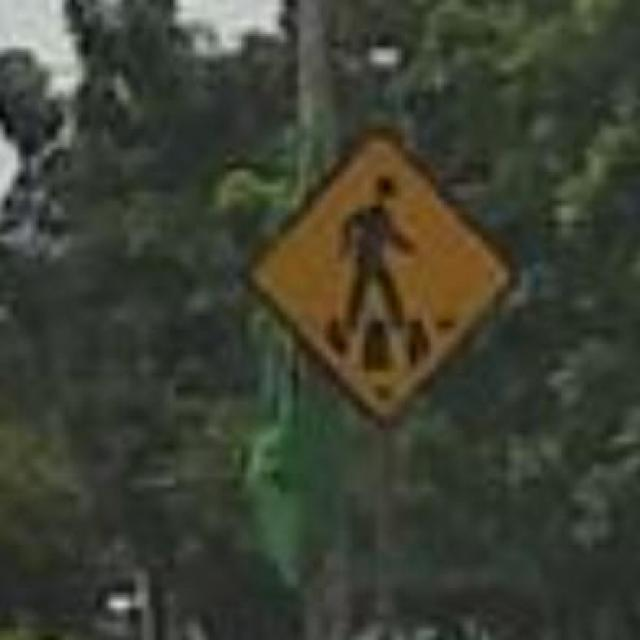traffic sign: (261, 136, 502, 414)
